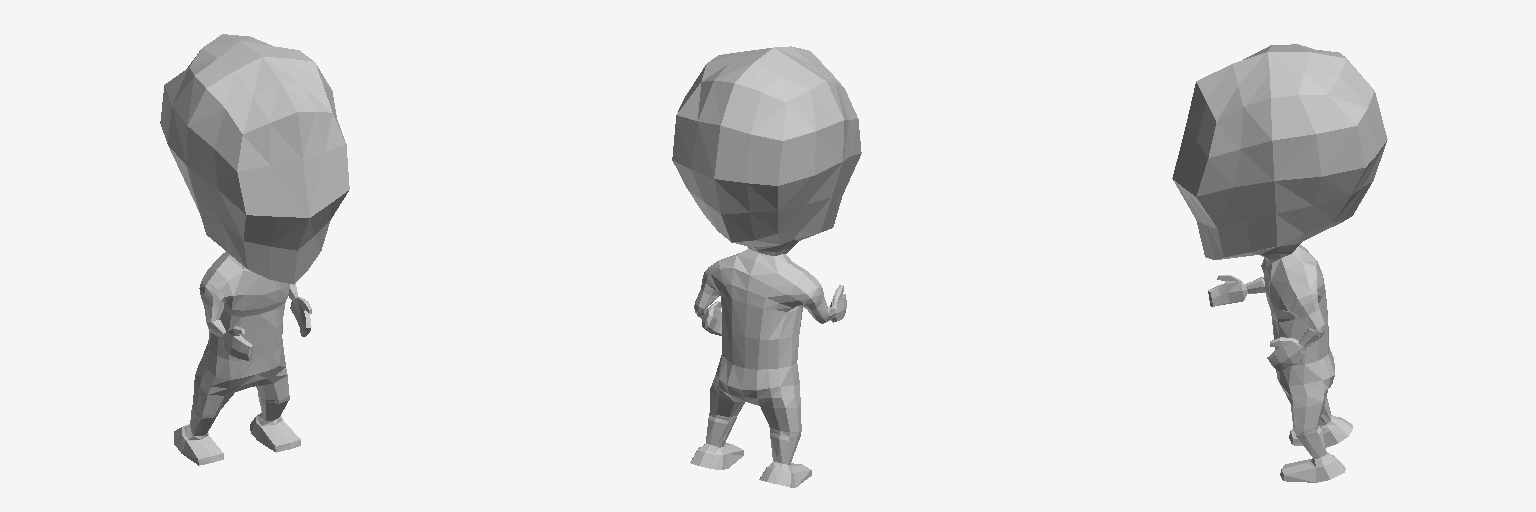
File: char_000003.obj
The picture shows the model from 3 angles: view 1: azimuth 30°, elevation 25°; view 2: azimuth 150°, elevation 25°; view 3: azimuth 270°, elevation 25°; orthographic projection.
Parts seen in each view (by area): view 1: lp_guy_mesh_Cube; view 2: lp_guy_mesh_Cube; view 3: lp_guy_mesh_Cube.
Boxes of the visible parts, <box> form: lp_guy_mesh_Cube: <box>160,34,349,465</box>; lp_guy_mesh_Cube: <box>672,46,861,487</box>; lp_guy_mesh_Cube: <box>1172,44,1387,482</box>.
Bounding box in the file's own units: 0.7344 × 1.98 × 0.9444.